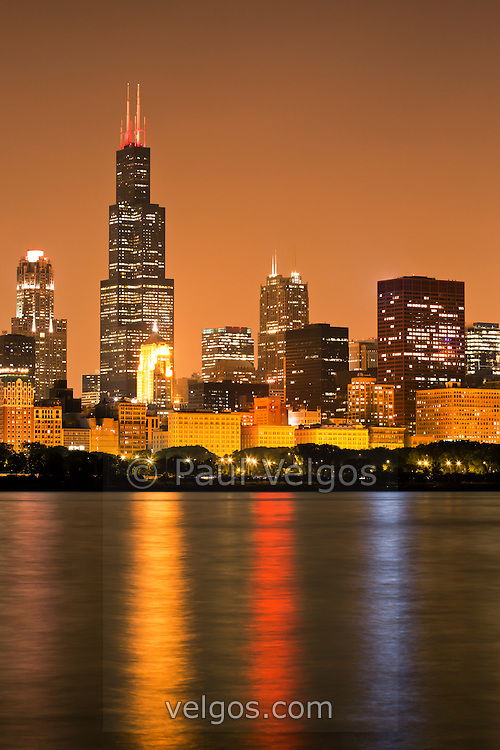willis: (89, 69, 190, 434)
